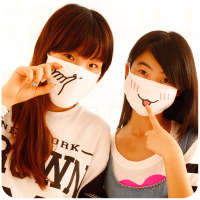face_mask: (46, 37, 100, 108), (125, 54, 176, 116)
